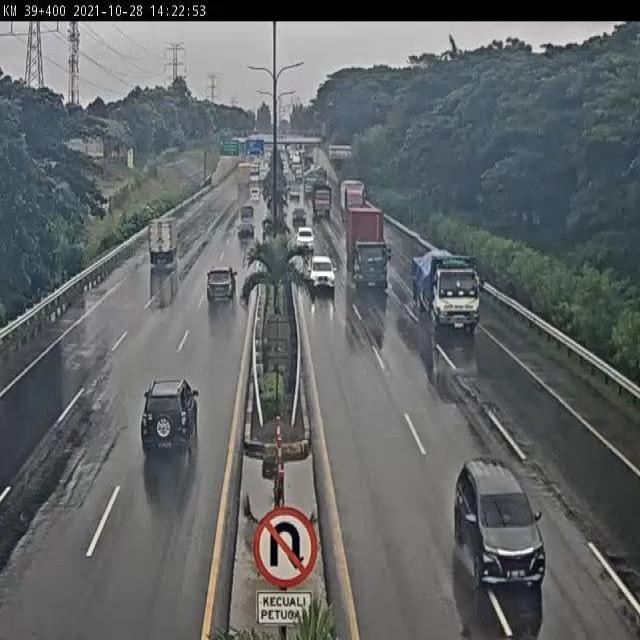car: (141, 380, 199, 452)
truck-l-: (413, 250, 486, 334)
truck-m-: (149, 220, 181, 267)
truck-xl-: (346, 207, 394, 293)
